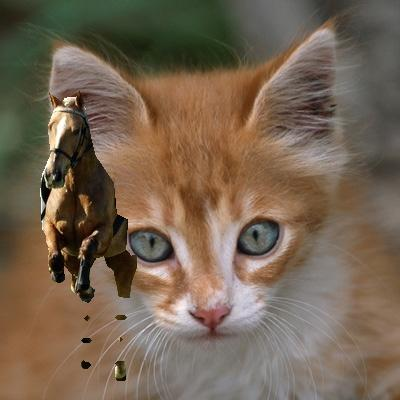tampered: (41, 92, 137, 381)
